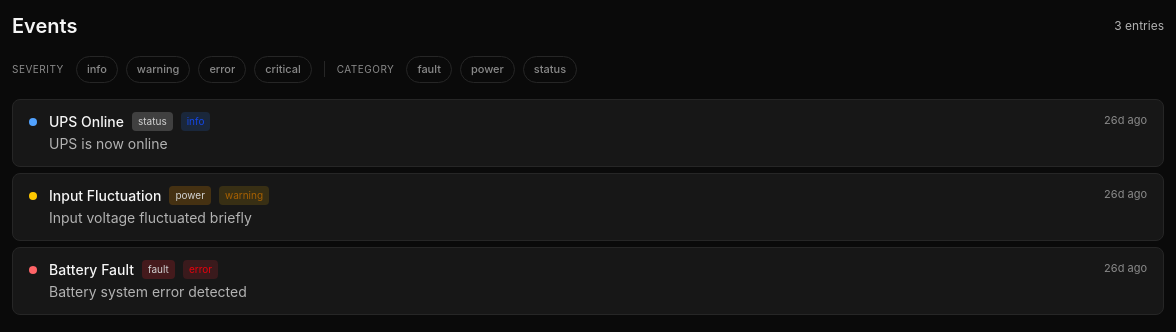
Test: Events › clears filters
The width and height of the screenshot is (1176, 332).
Check: the text "UPS Online" is shown, box [49,112,124,132]
Click the button "error".
click(222, 69)  # box [198,56,246,82]
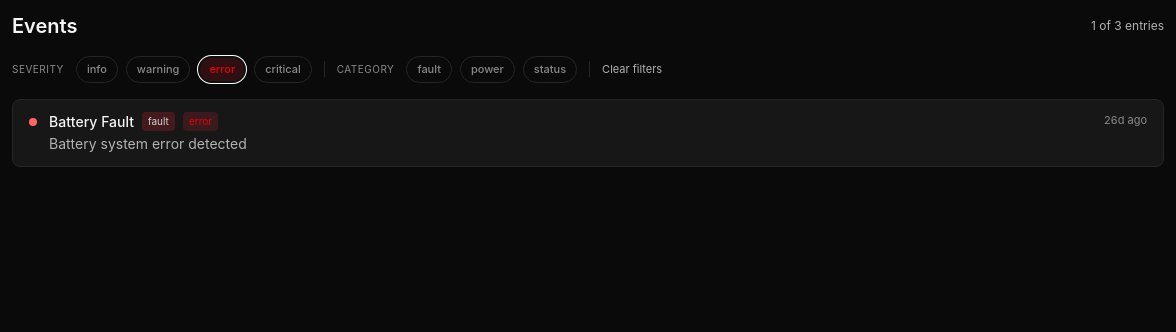
Check: the text "UPS Online" is gone
Click the button "Clear filters".
click(632, 69)  # box [602,61,662,78]
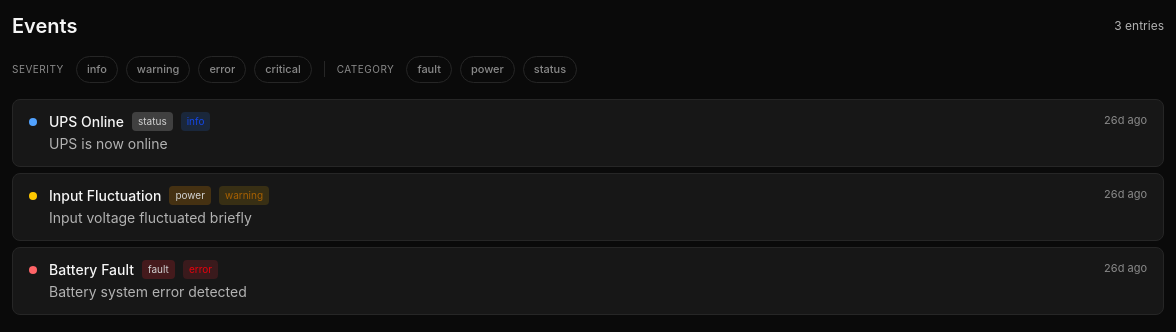
Check: the text "3 entries" is shown, box [1114,18,1164,34]
Check: the text "UPS Online" is shown, box [49,112,124,132]
